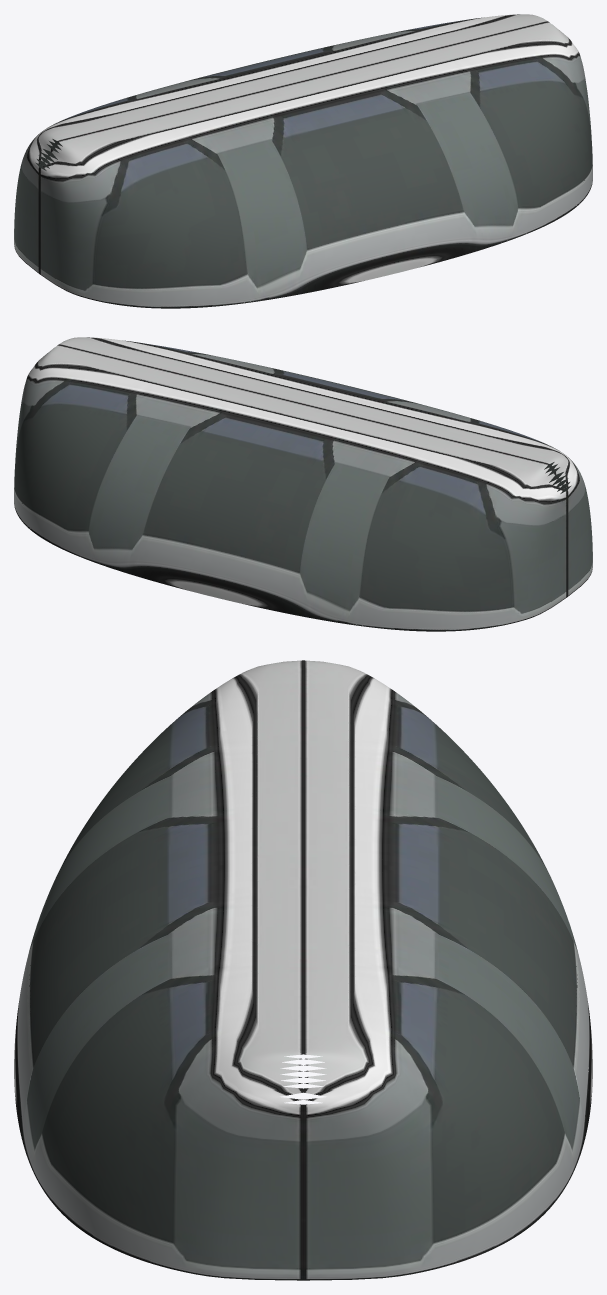
Rendered from rear_bulkhead.glb.
3 renders of one model, top to bottom at view 1: azimuth 30°, elevation 25°; view 2: azimuth 150°, elevation 25°; view 3: azimuth 270°, elevation 25°, orthographic. The views are drawn at different scales.
Visible parts, largest first — view 1: rear_bulkhead; view 2: rear_bulkhead; view 3: rear_bulkhead.
Part boxes in pixels (<box>): rear_bulkhead: <box>14,14,592,308</box>; rear_bulkhead: <box>14,337,592,631</box>; rear_bulkhead: <box>14,660,592,1280</box>.
Size of the model in its own units: 0.989 by 0.2307 by 0.571.
Materials: 1 (1 with a texture image).
